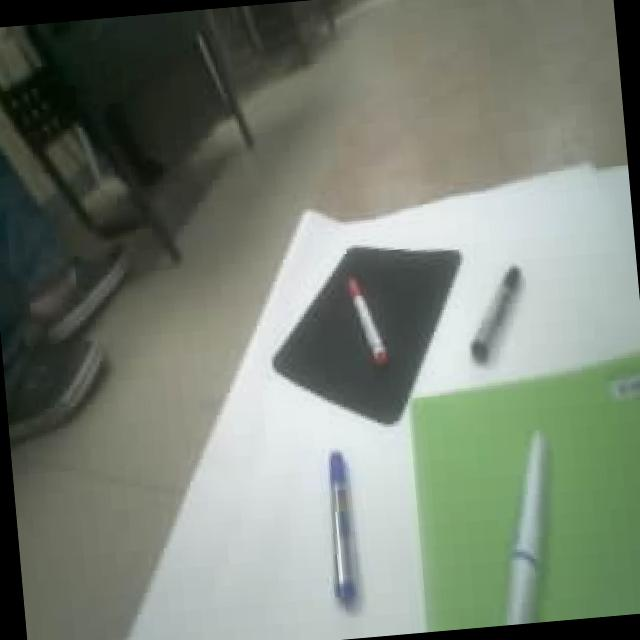board-marker: (471, 265, 521, 360), (330, 449, 356, 604), (349, 277, 388, 363)
